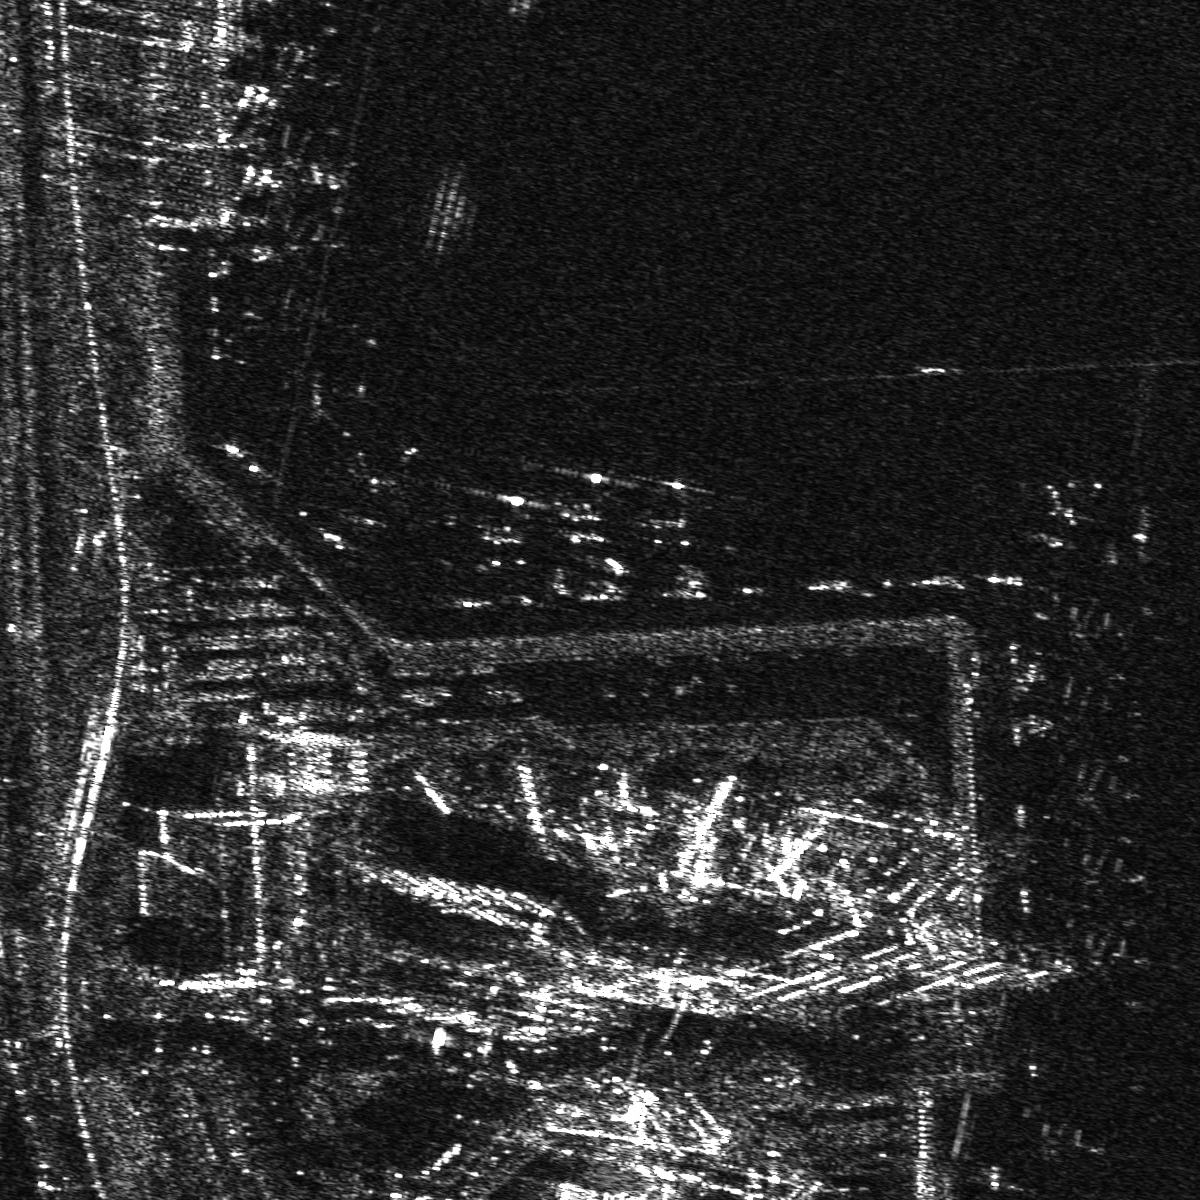A220: (1048, 762, 1149, 835), (1062, 590, 1144, 679), (1086, 936, 1184, 1009), (537, 464, 613, 554), (1075, 848, 1158, 926)
A320/321: (1020, 467, 1110, 533)
Boeing737: (451, 484, 532, 557)
other: (630, 475, 701, 552)
